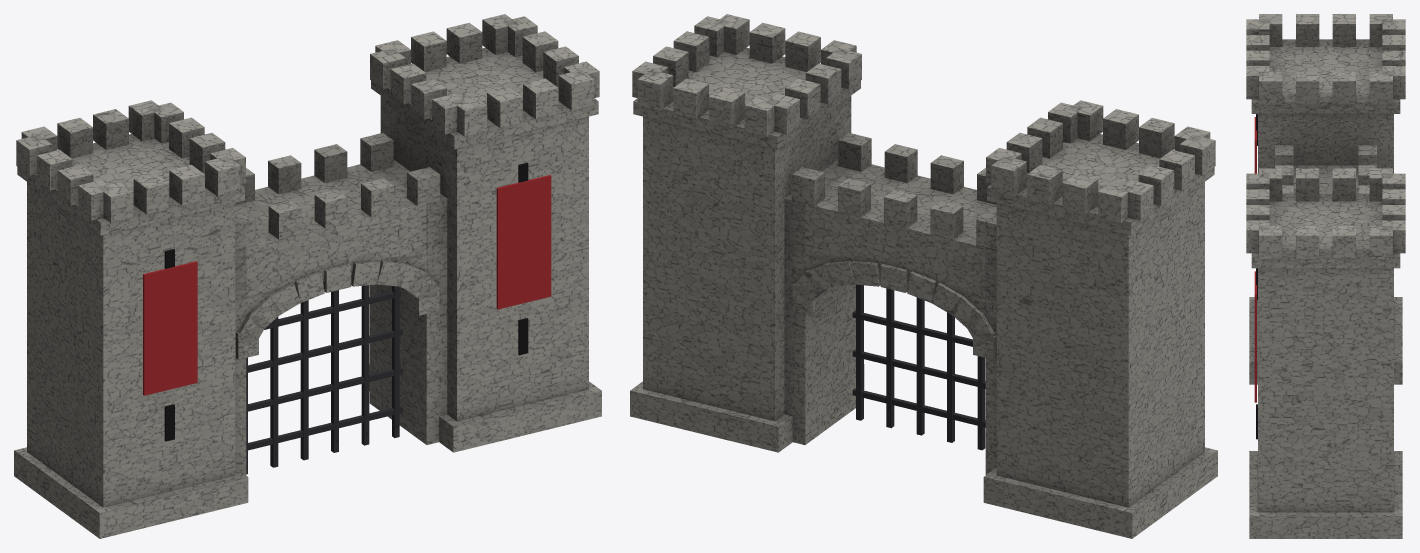
The model's file is Gatehouse.glb.
3 views of the same model, side by side, from view 1: azimuth 30°, elevation 25°; view 2: azimuth 150°, elevation 25°; view 3: azimuth 270°, elevation 25° (orthographic). The views are drawn at different scales.
Parts seen in each view (by area): view 1: Gatehouse, GateBanners, Portcullis, Slits; view 2: Gatehouse, Portcullis; view 3: Gatehouse, GateBanners.
Part boxes in pixels (x1,y1,x2,y2): Gatehouse: [14, 14, 601, 538]; GateBanners: [143, 175, 551, 395]; Portcullis: [246, 285, 402, 474]; Slits: [164, 162, 528, 441]; Gatehouse: [630, 14, 1217, 538]; Portcullis: [852, 284, 985, 450]; Gatehouse: [1246, 14, 1405, 538]; GateBanners: [1254, 117, 1256, 402].
Size of the model in its own units: 12.33 by 7.9 by 3.75.
Materials: 4 (1 with a texture image).
